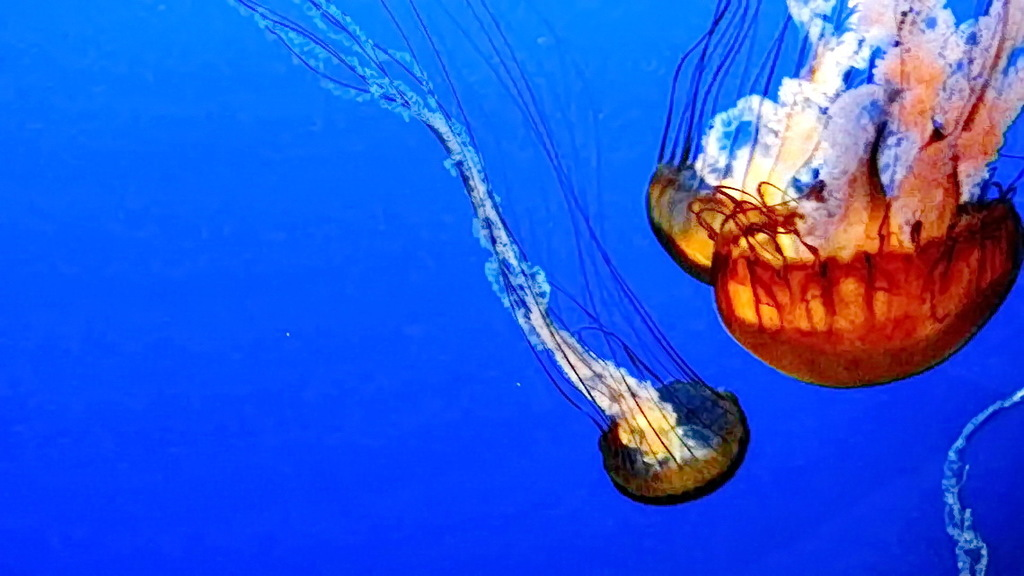Jellyfish: (230, 0, 758, 507), (684, 0, 1023, 390), (642, 0, 875, 285)
